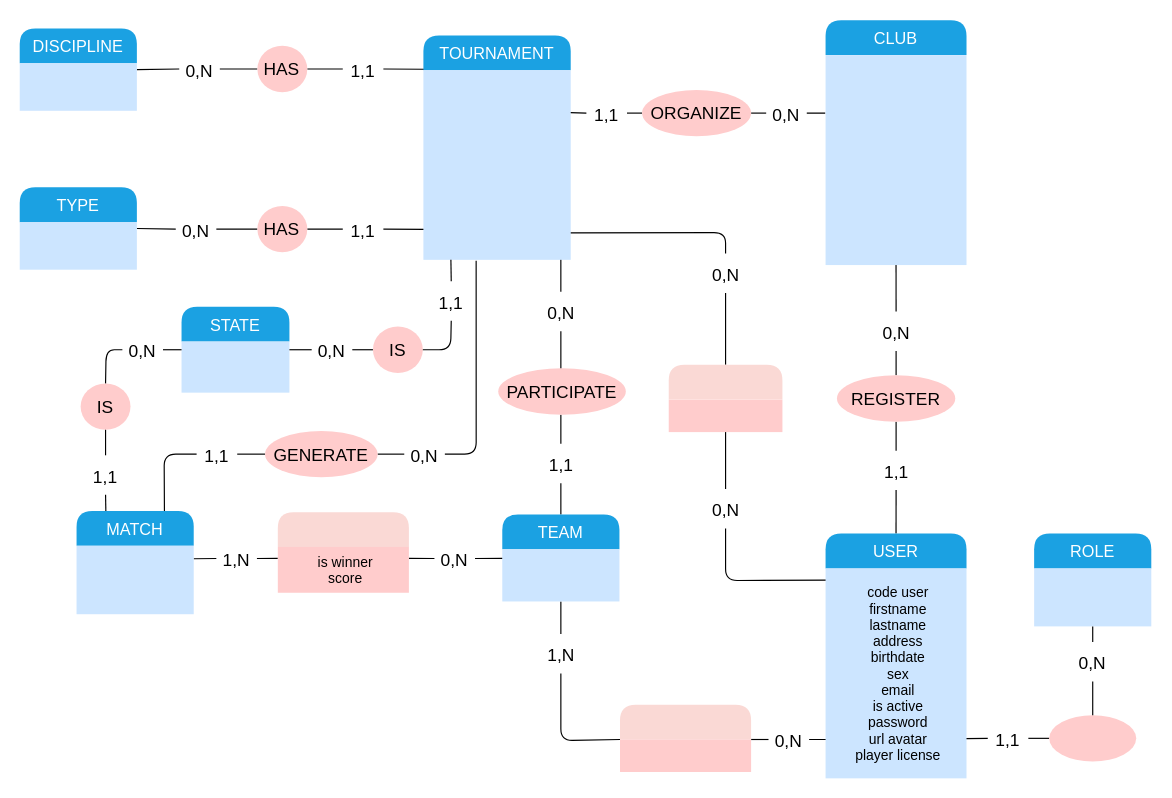
Some shapes in this 1172 by 798 pixel diagram are drawn without their labels. Each missing label, with the box of its shape:
ACCESS: (1049, 715, 1136, 761)
BELONGS: (619, 704, 751, 771)
code club name address phone email logo url website club ref description: (825, 55, 966, 264)
code discipline name: (19, 63, 136, 110)
code match note: (76, 545, 193, 614)
code role name: (1034, 568, 1151, 626)
code state name: (181, 341, 289, 392)
code team: (502, 549, 619, 601)
code tournament title date description picture url nb playground player limit: (423, 70, 570, 259)
code type name: (19, 222, 136, 269)
MANAGE: (668, 364, 782, 432)
PLAY: (277, 512, 408, 592)
